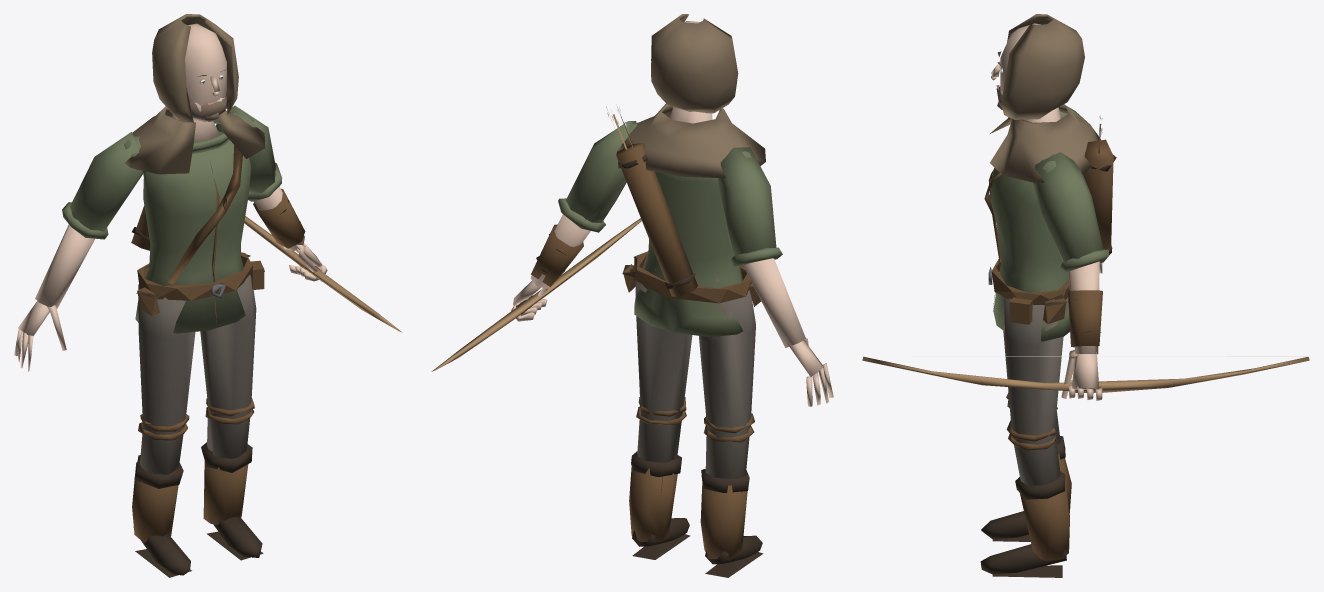
File: human_leather.glb
3 views of the same model, side by side, from view 1: azimuth 30°, elevation 25°; view 2: azimuth 150°, elevation 25°; view 3: azimuth 270°, elevation 25° (orthographic). The views are drawn at different scales.
Parts seen in each view (by area): view 1: human_leather__OW_Enemy_Bandit_Archer_MESH_d; view 2: human_leather__OW_Enemy_Bandit_Archer_MESH_d; view 3: human_leather__OW_Enemy_Bandit_Archer_MESH_d.
Boxes of the visible parts, left/top/right/bottom form: human_leather__OW_Enemy_Bandit_Archer_MESH_d: left=14, top=14, right=402, bottom=577; human_leather__OW_Enemy_Bandit_Archer_MESH_d: left=431, top=14, right=833, bottom=577; human_leather__OW_Enemy_Bandit_Archer_MESH_d: left=862, top=14, right=1309, bottom=577.
Size of the model in its own units: 1.14 by 1.91 by 1.44.
